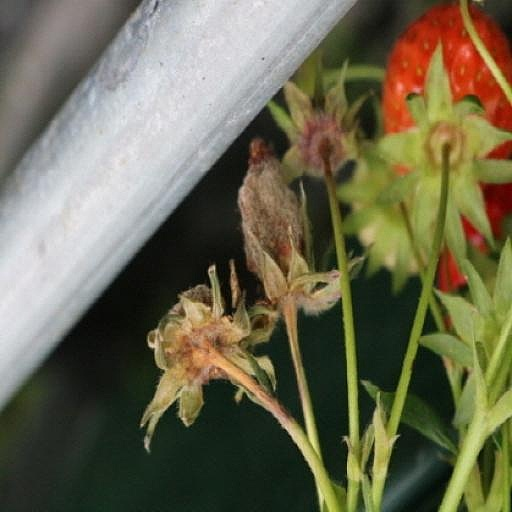Gray Mold: (140, 60, 289, 251), (239, 164, 342, 374)
